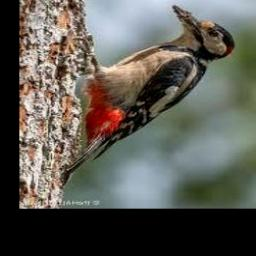Woodpecker: (60, 5, 235, 186)
